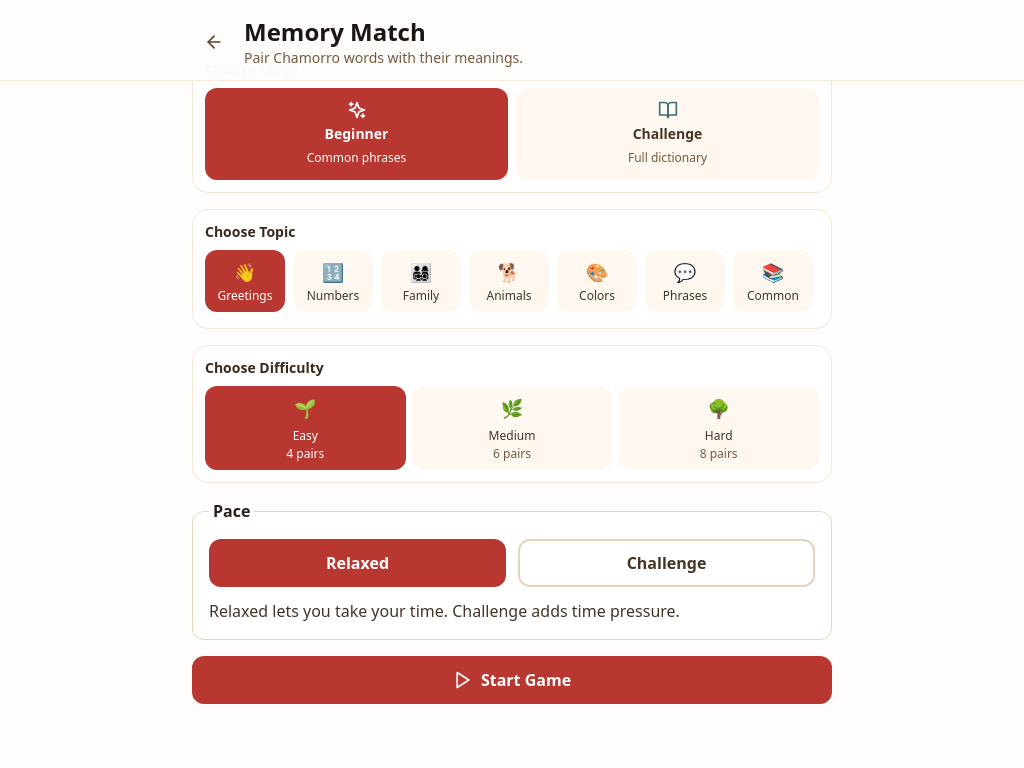
Test: game result and round reliability › Memory Match guards header, browser Back and close, then leaves once
The image size is (1024, 768).
Later steps or results of the test are not shown.
(page scrolled)
Click the button "Start Game": (512, 680) [192,656,832,704]
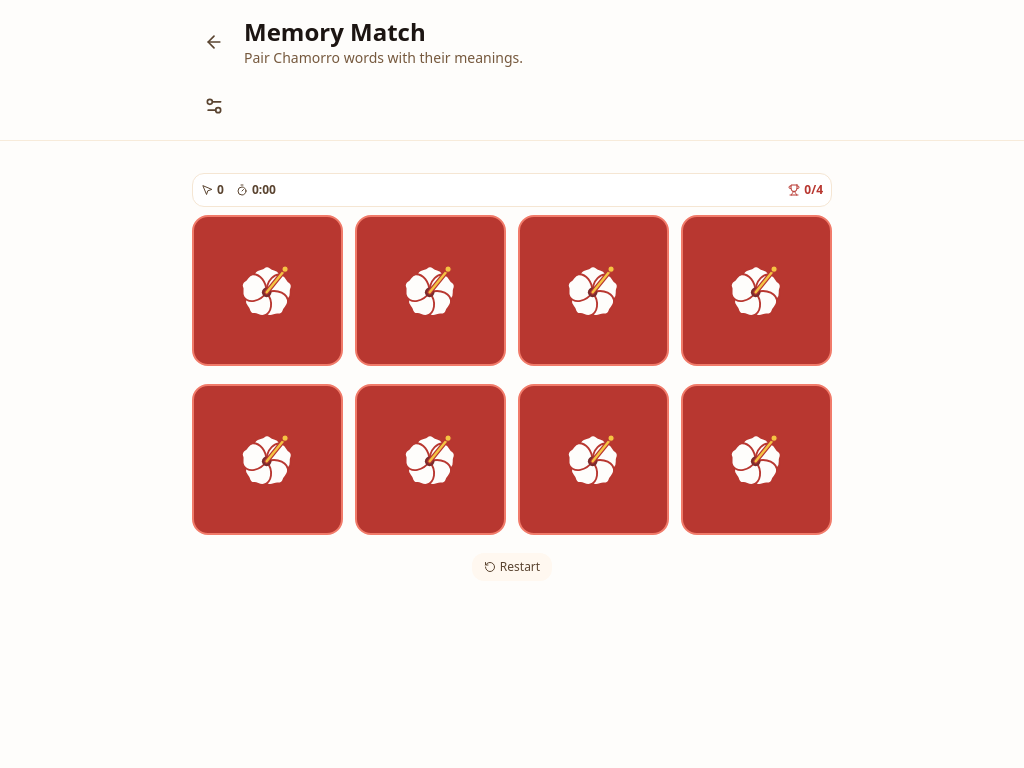
Check: the button "Start Game" is gone
Click the 1st button named "Reveal memory card": (268, 290) [192,215,343,366]
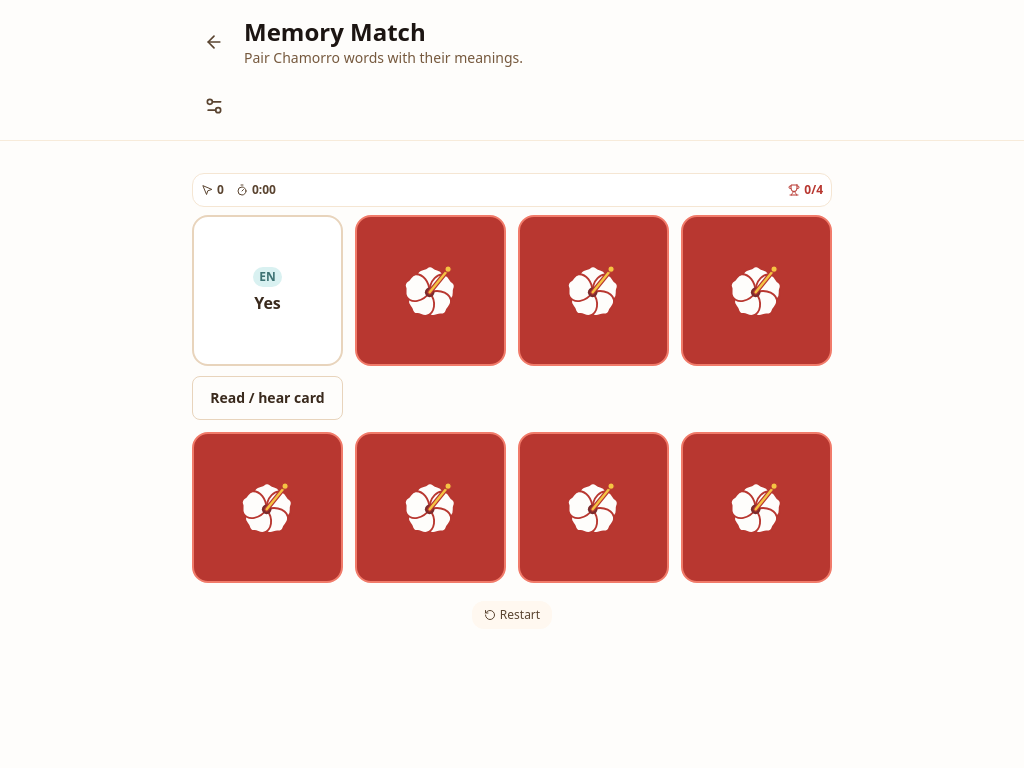
Click the button named "Back to games": (214, 42) [192,20,236,64]
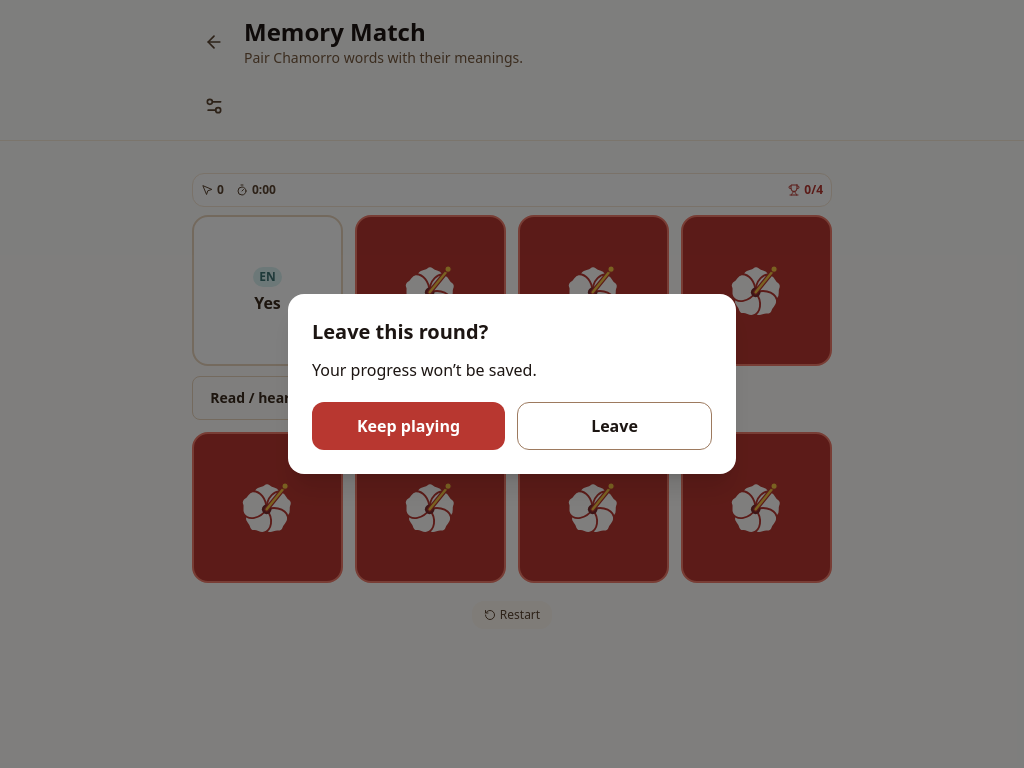
Check: the dialog shows "Leave this round?", box [312,318,488,345]
